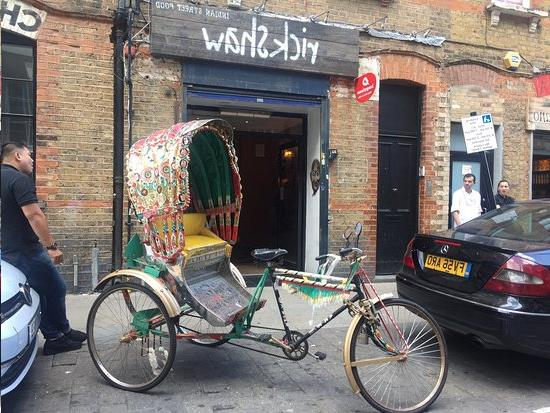Rickshaw: (99, 117, 443, 407)
